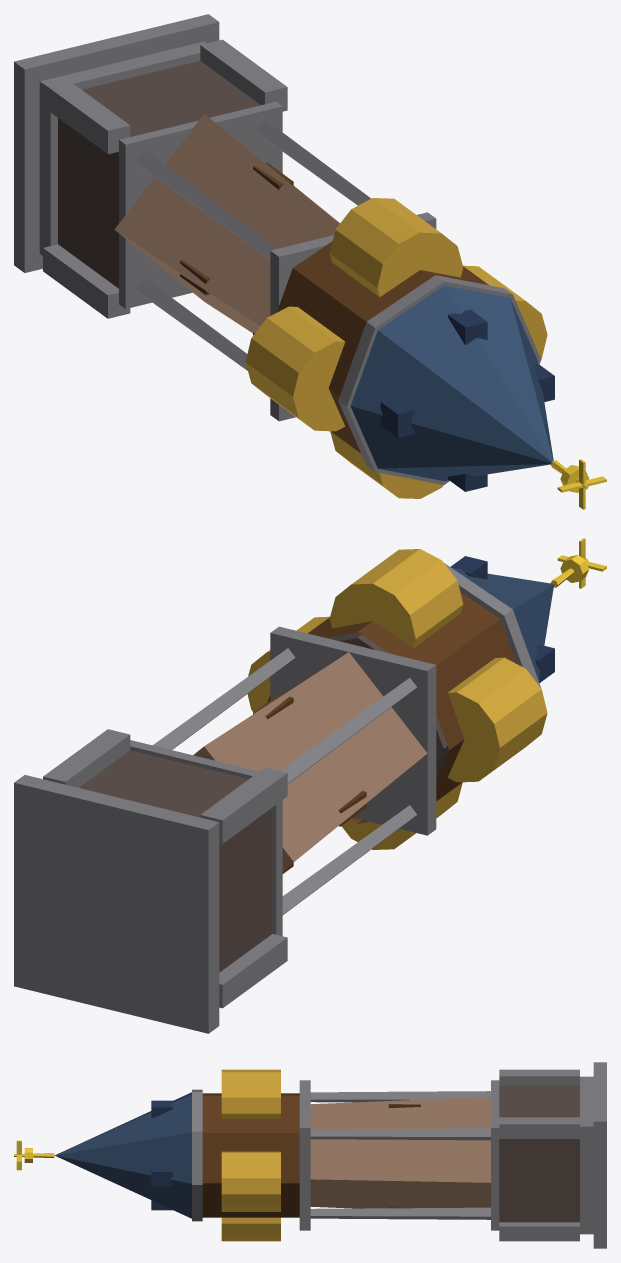
The model's file is guild_clocktower.obj.
The picture shows the model from 3 angles, top to bottom: view 1: azimuth 30°, elevation 25°; view 2: azimuth 150°, elevation 25°; view 3: azimuth 270°, elevation 25°; orthographic projection. The views are drawn at different scales.
Visible parts, largest first — view 1: guild_clocktower; view 2: guild_clocktower; view 3: guild_clocktower.
Boxes of the visible parts, x1,y1,x2,y2 form: guild_clocktower: [14, 14, 606, 509]; guild_clocktower: [14, 538, 606, 1033]; guild_clocktower: [14, 1062, 606, 1248].
Bounding box in the file's own units: 6.8 × 6.8 × 22.
